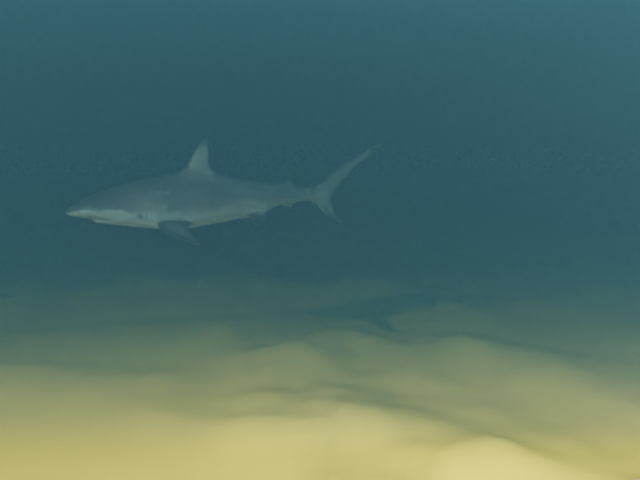Carribean Shark.001: (64, 139, 383, 245)
